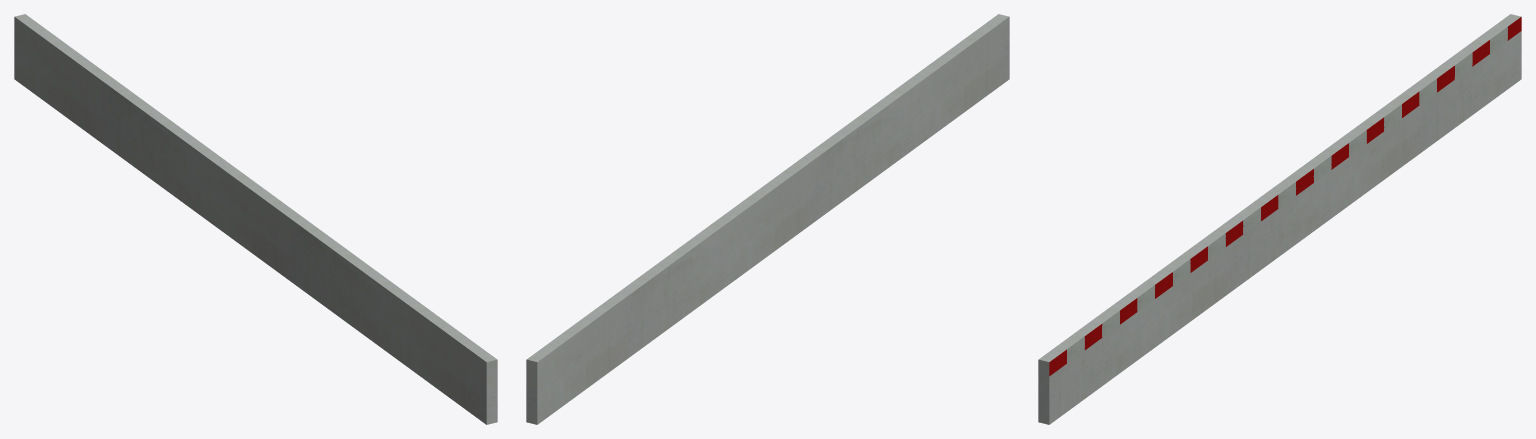
File: 34barrier.gltf
The picture shows the model from 3 angles, left to right: view 1: azimuth 30°, elevation 25°; view 2: azimuth 150°, elevation 25°; view 3: azimuth 330°, elevation 25°; orthographic projection.
Parts seen in each view (by area): view 1: node1; view 2: node1; view 3: node1, node2.
Part boxes in pixels (<box>): node1: <box>14,14,497,424</box>; node1: <box>526,14,1009,424</box>; node1: <box>1038,14,1521,424</box>; node2: <box>1049,17,1521,376</box>.
Size of the model in its own units: 0.2 by 1.1 by 15.
